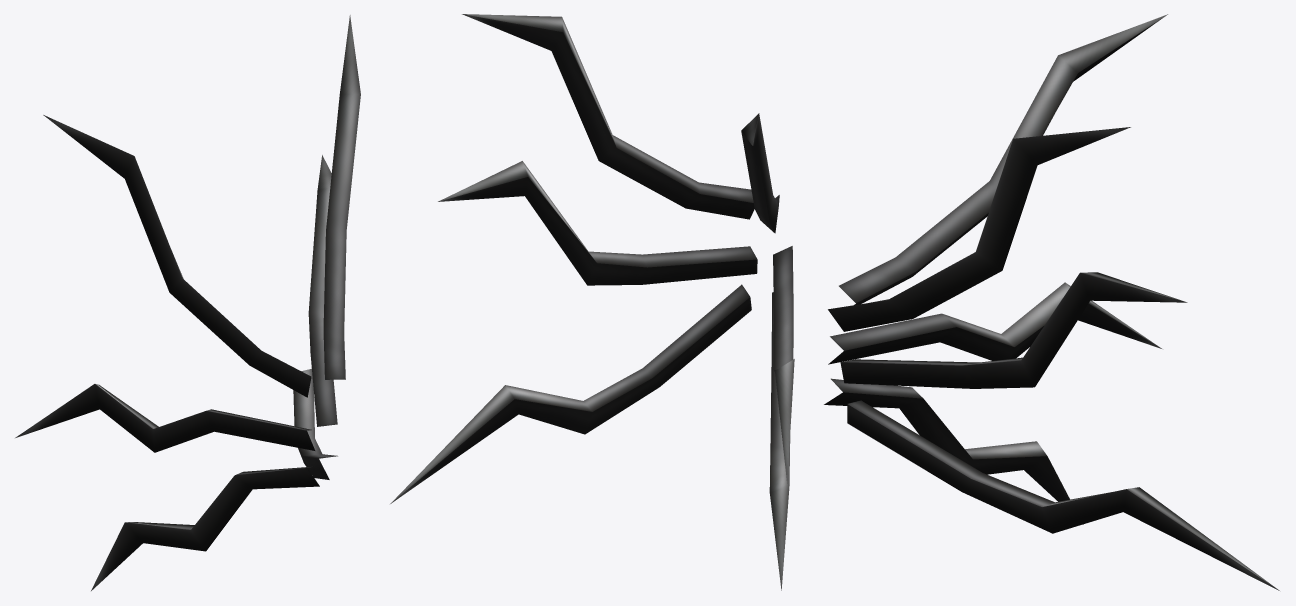
The model's file is tt_m_chr_avt_acc_pac_spiderLegs.glb.
The picture shows the model from 3 angles, left to right: view 1: azimuth 30°, elevation 25°; view 2: azimuth 150°, elevation 25°; view 3: azimuth 270°, elevation 25°; orthographic projection. The views are drawn at different scales.
Visible parts, largest first — view 1: tt_m_chr_avt_acc_pac_spiderLegs; view 2: tt_m_chr_avt_acc_pac_spiderLegs; view 3: tt_m_chr_avt_acc_pac_spiderLegs.
Part boxes in pixels (x1=…): tt_m_chr_avt_acc_pac_spiderLegs: x1=15, y1=15, x2=360, y2=590; tt_m_chr_avt_acc_pac_spiderLegs: x1=390, y1=14, x2=794, y2=590; tt_m_chr_avt_acc_pac_spiderLegs: x1=824, y1=14, x2=1279, y2=590.
Size of the model in its own units: 3.65 by 5.33 by 4.01.
Materials: 1 (1 with a texture image).
